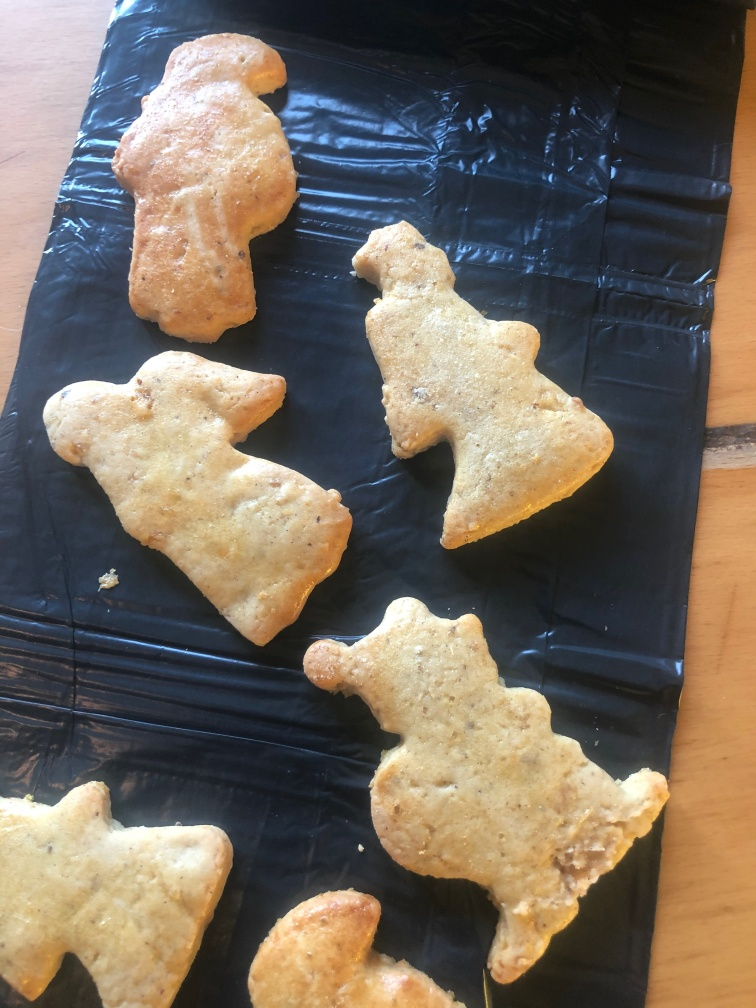angel: (45, 347, 354, 646)
king mage: (340, 213, 617, 546), (1, 772, 248, 997)
santa claus: (296, 590, 661, 987), (113, 31, 299, 340)
